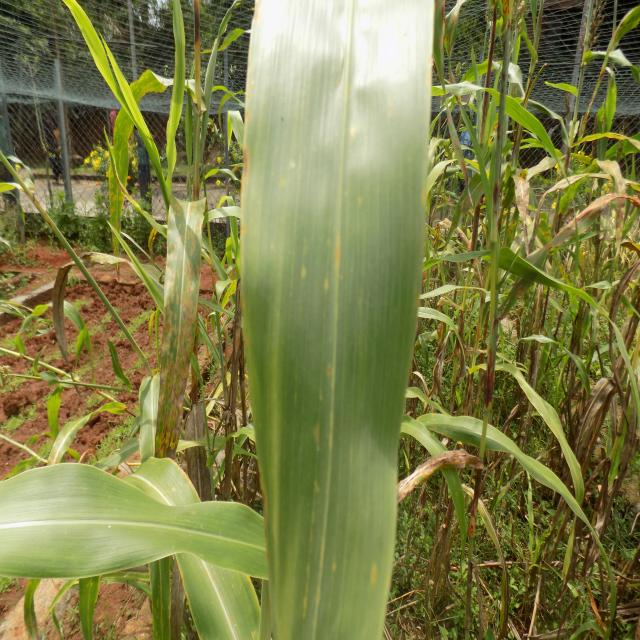millet_healthy: (234, 2, 434, 640), (2, 448, 274, 597), (114, 447, 264, 640)
